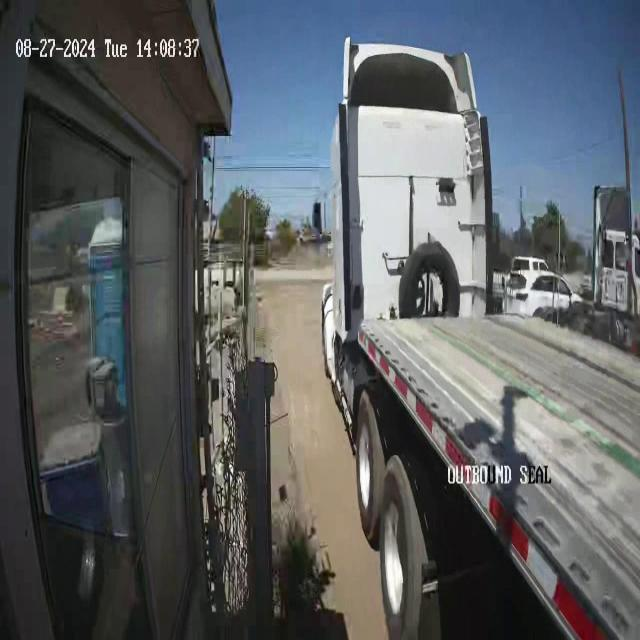TRUCK_OUT: (321, 36, 639, 638)
